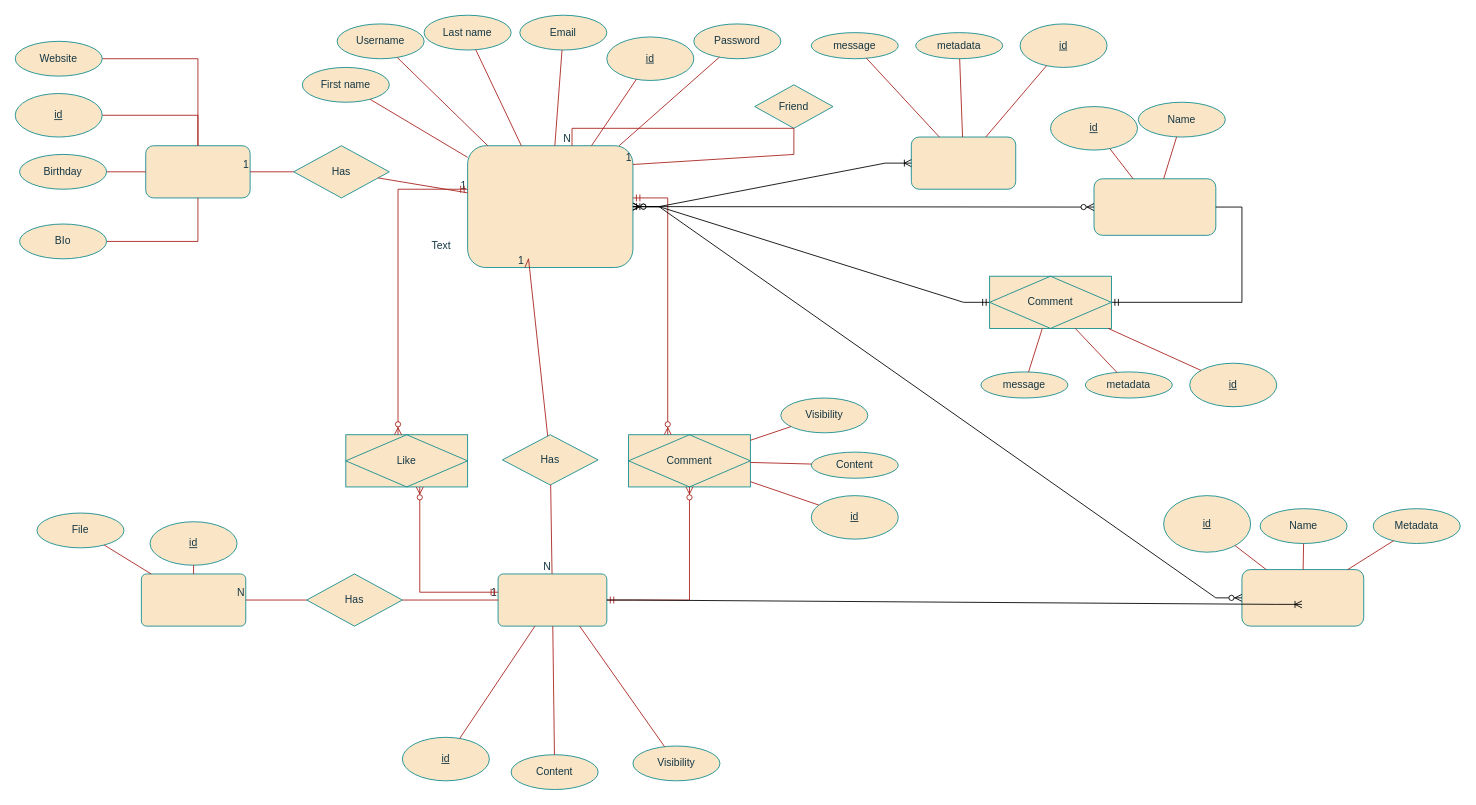
Image size: 1476x805. Some labels were removed from this diagram. Each missing label, with the centre of its shape:
"Fanpage" goes at point (1302, 597).
"Group" goes at point (1154, 206).
"Media" goes at point (193, 599).
"Notification" goes at point (963, 162).
"Post" goes at point (552, 599).
"Profile" goes at point (197, 171).
"User" goes at point (550, 206).
